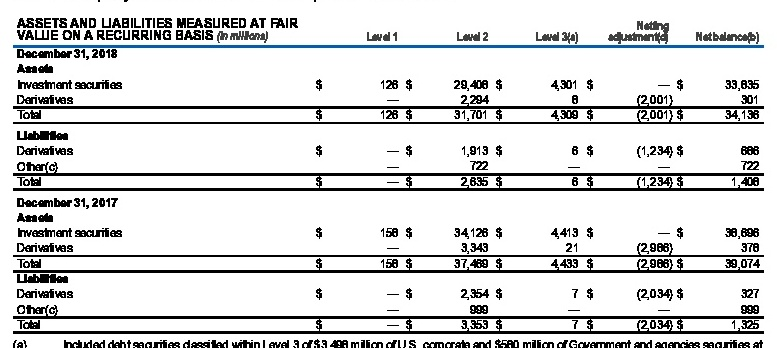table: (0, 0, 777, 348)
